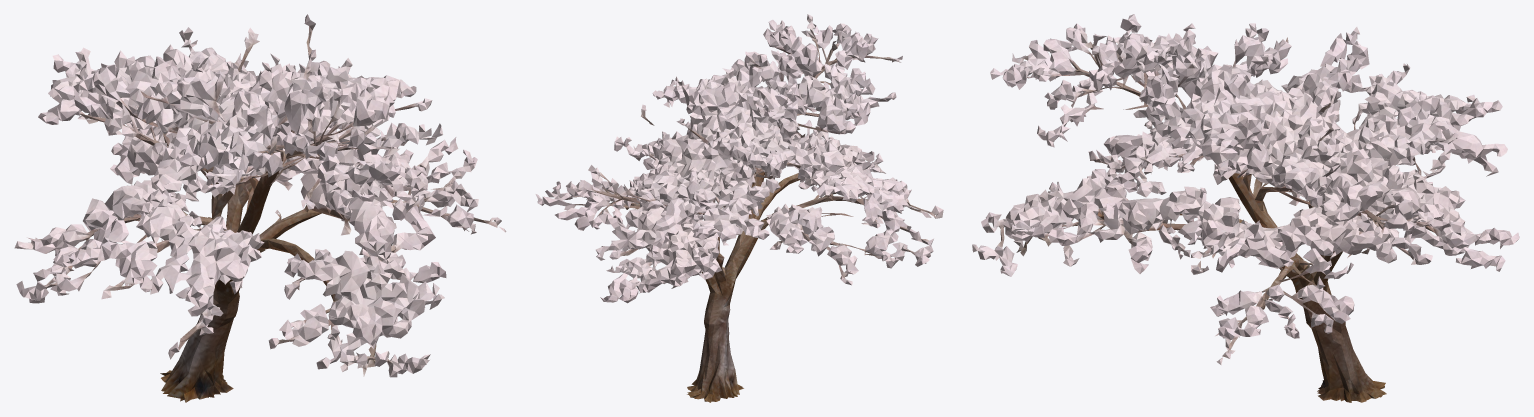
The picture shows the model from 3 angles, left to right: view 1: azimuth 30°, elevation 25°; view 2: azimuth 150°, elevation 25°; view 3: azimuth 270°, elevation 25°; orthographic projection. The views are drawn at different scales.
Parts seen in each view (by area): view 1: model; view 2: model; view 3: model.
Part boxes in pixels (x1,y1,x2,y2): model: (14,14,506,402); model: (535,14,943,402); model: (972,14,1519,402).
Size of the model in its own units: 1.77 by 1.37 by 1.88.
Materials: 1 (1 with a texture image).
